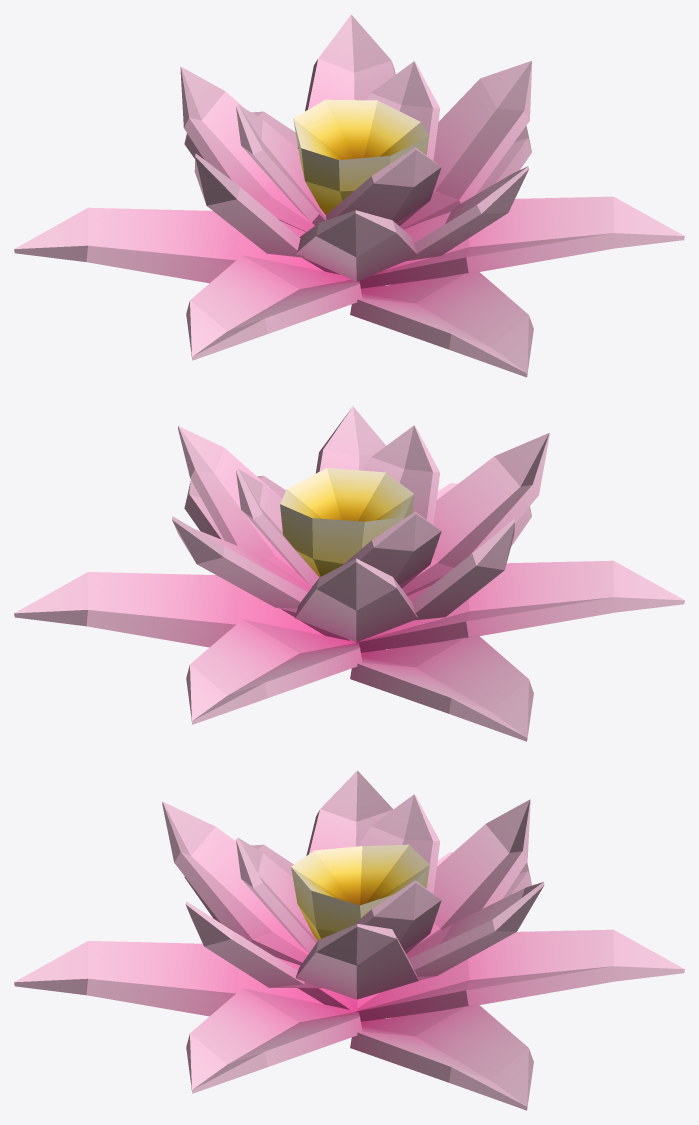
Rendered from PondFlower-01.FBX.
3 renders of one model, top to bottom at view 1: azimuth 30°, elevation 25°; view 2: azimuth 150°, elevation 25°; view 3: azimuth 270°, elevation 25°, orthographic.
Visible parts, largest first — view 1: PondFlower-01; view 2: PondFlower-01; view 3: PondFlower-01.
Boxes of the visible parts, box(x1,y1,x2,y2) form: PondFlower-01: box(14, 14, 684, 377); PondFlower-01: box(14, 406, 684, 741); PondFlower-01: box(14, 770, 684, 1110).
Bounding box in the file's own units: 49.49 × 18.44 × 56.09.
1 material, 1 textured.
